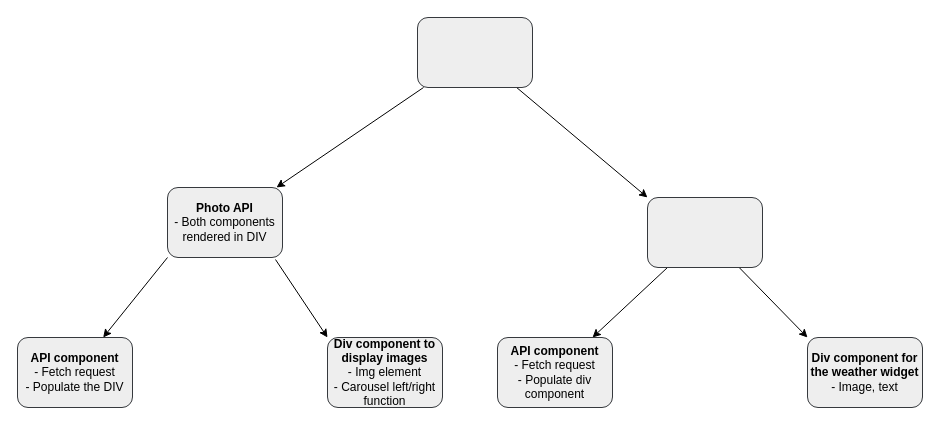
Some shapes in this 940 by 426 pixel diagram are drawn without their labels. Each missing label, with the centre of its shape:
"App - Two API parents rendered" goes at [474,52].
"Weather API - Both components rendered" goes at [704,232].
